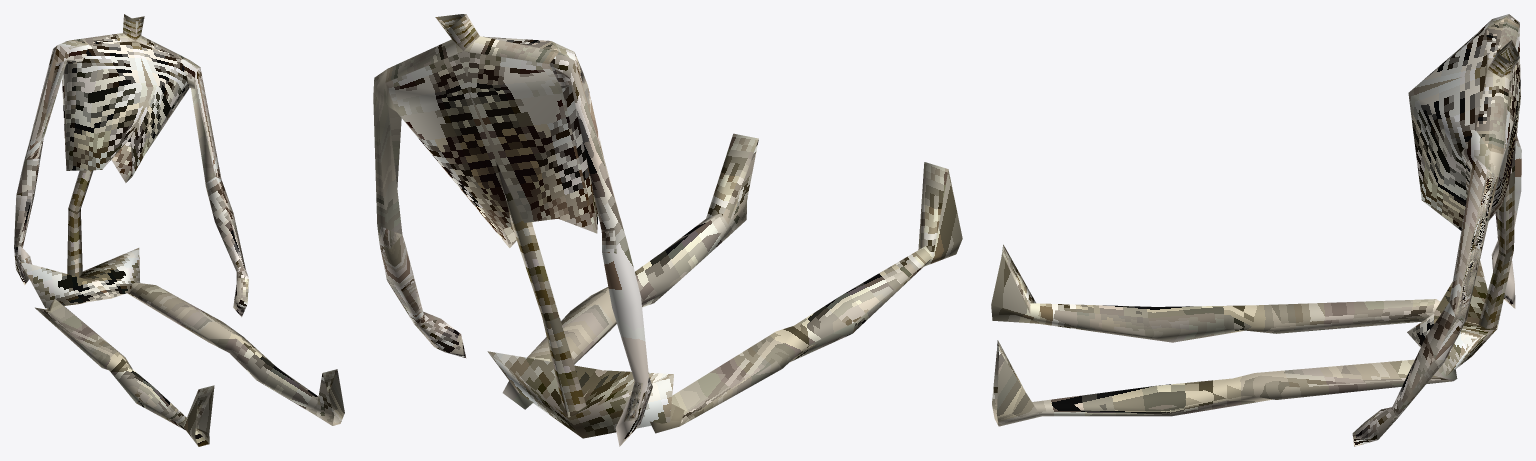
The model's file is skeleton.dae.
3 views of the same model, side by side, from view 1: azimuth 30°, elevation 25°; view 2: azimuth 150°, elevation 25°; view 3: azimuth 270°, elevation 25° (orthographic). The views are drawn at different scales.
Parts seen in each view (by area): view 1: Mesh; view 2: Mesh; view 3: Mesh.
Part boxes in pixels (bbox=[...]): Mesh: bbox=[14, 14, 344, 446]; Mesh: bbox=[373, 14, 962, 446]; Mesh: bbox=[991, 14, 1521, 446].
Size of the model in its own units: 1.43 by 1.87 by 2.43.
